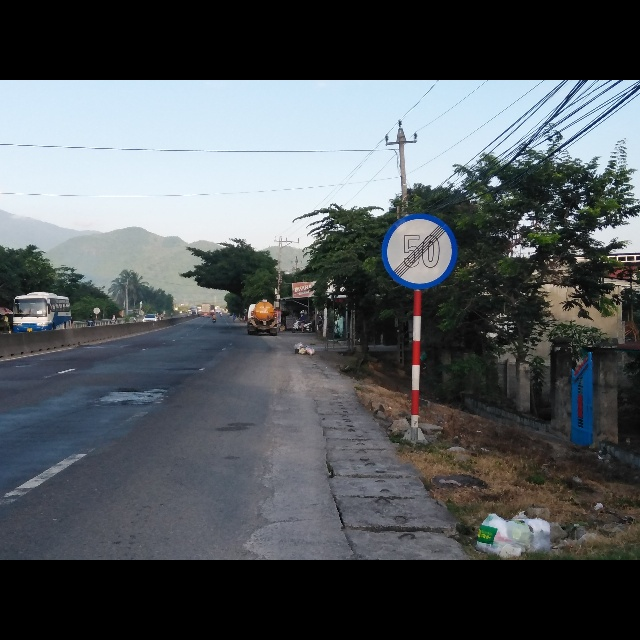Hết hạn chế tốc độ tối đa 50km/h: (380, 211, 459, 290)
